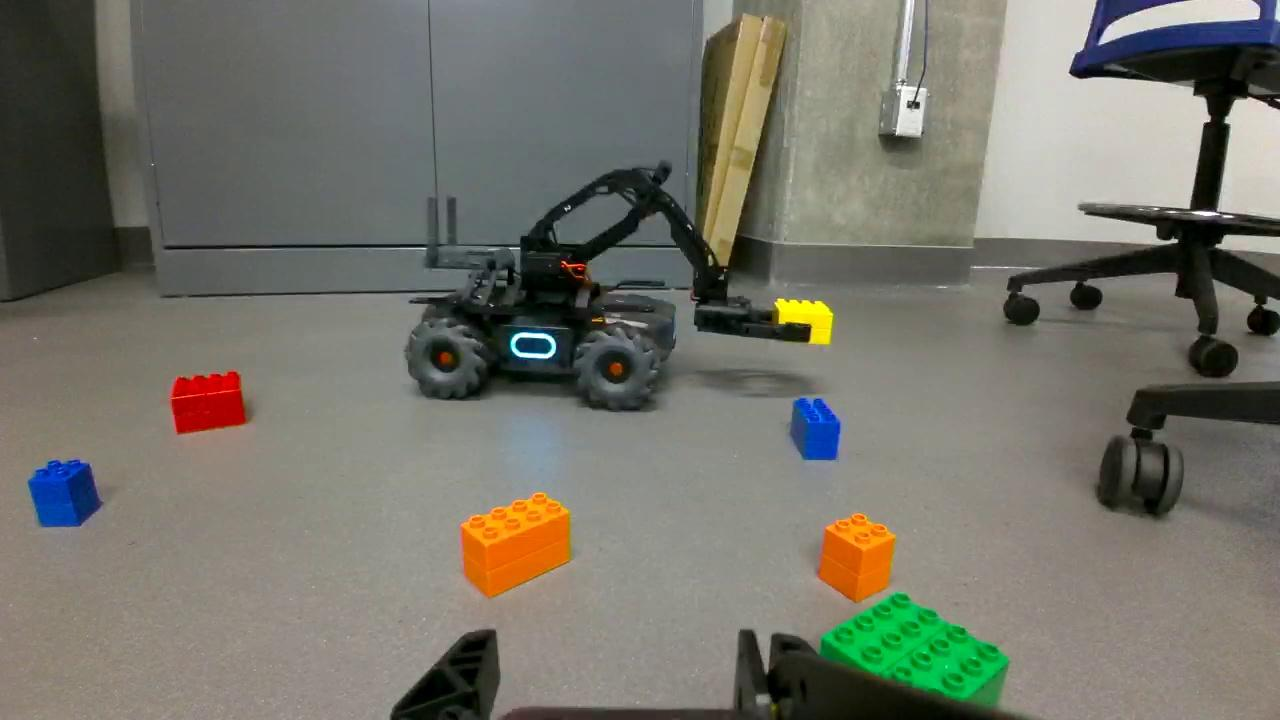2x2lego: (819, 511, 895, 607), (27, 459, 102, 530)
2x4lego: (459, 489, 570, 600), (791, 397, 844, 463)
4x4lego: (816, 590, 1014, 720), (167, 368, 253, 434)
